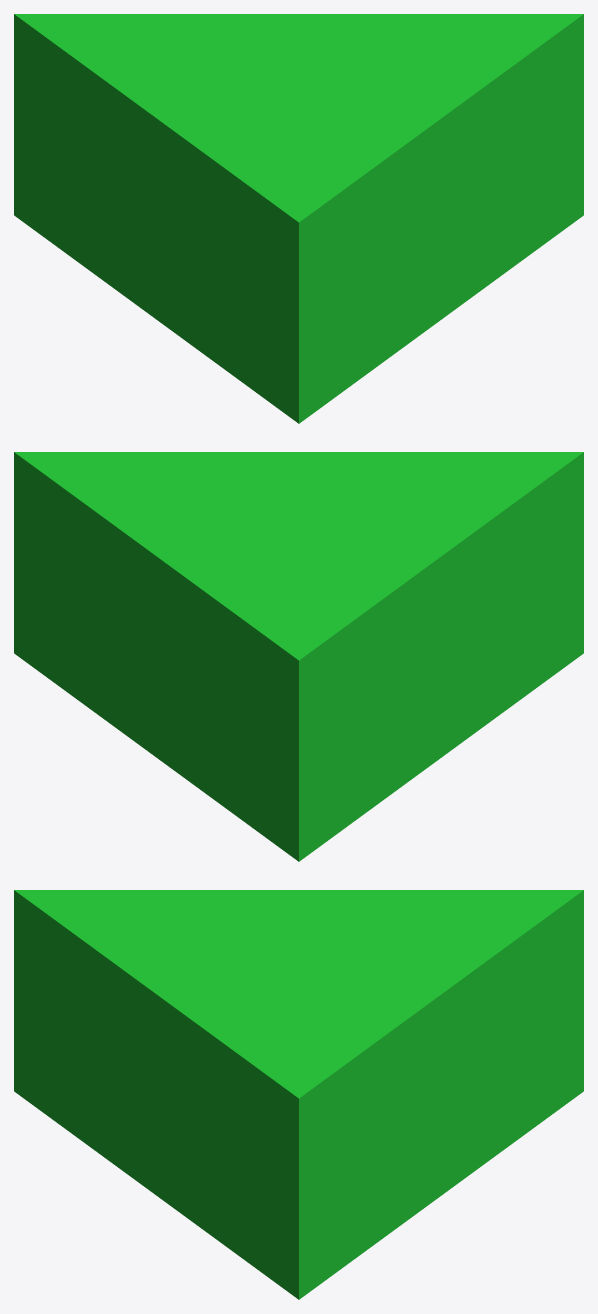
Rendered from triangle_shape.dae.
The picture shows the model from 3 angles, top to bottom: view 1: azimuth 30°, elevation 25°; view 2: azimuth 150°, elevation 25°; view 3: azimuth 270°, elevation 25°; orthographic projection.
Parts seen in each view (by area): view 1: Triangle_Shape; view 2: Triangle_Shape; view 3: Triangle_Shape.
Part boxes in pixels (x1=…): Triangle_Shape: x1=14, y1=14, x2=583, y2=423; Triangle_Shape: x1=14, y1=452, x2=583, y2=861; Triangle_Shape: x1=14, y1=890, x2=583, y2=1299.
Size of the model in its own units: 0.48 by 0.5543 by 0.216.
